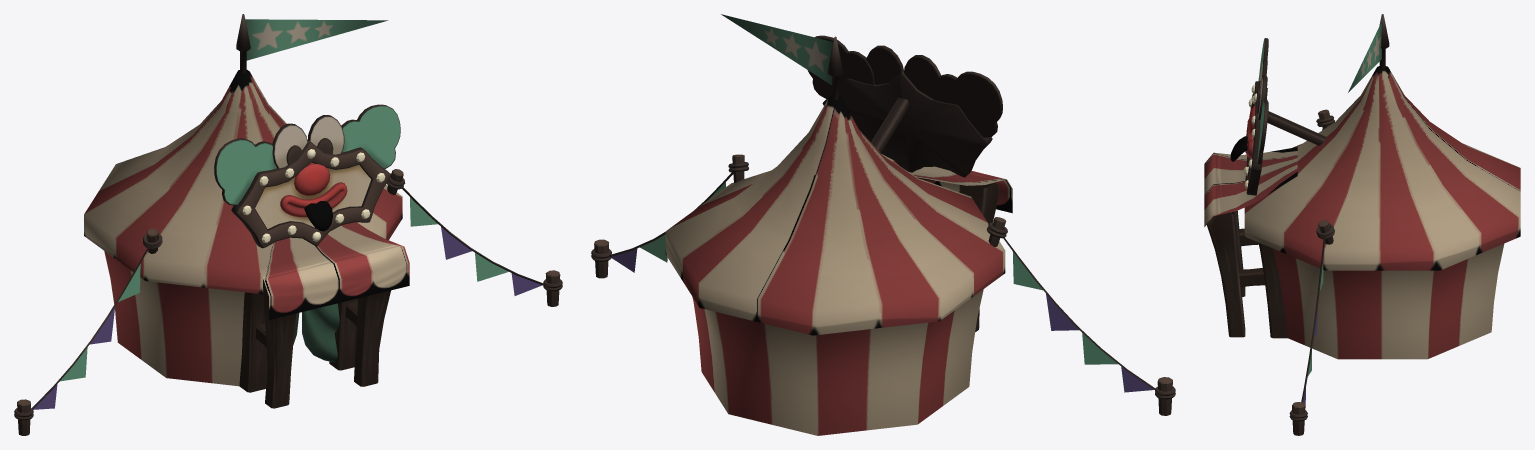
File: Circus.fbx
The picture shows the model from 3 angles, left to right: view 1: azimuth 30°, elevation 25°; view 2: azimuth 150°, elevation 25°; view 3: azimuth 270°, elevation 25°; orthographic projection. The views are drawn at different scales.
Visible parts, largest first — view 1: circus, light, tongue; view 2: circus; view 3: circus.
Part boxes in pixels (x1,y1,x2,y2): circus: [14, 14, 562, 435]; light: [242, 149, 385, 243]; tongue: [304, 201, 332, 231]; circus: [591, 14, 1175, 435]; circus: [1204, 14, 1520, 435].
Bounding box in the file's own units: 368 × 207 × 199.
